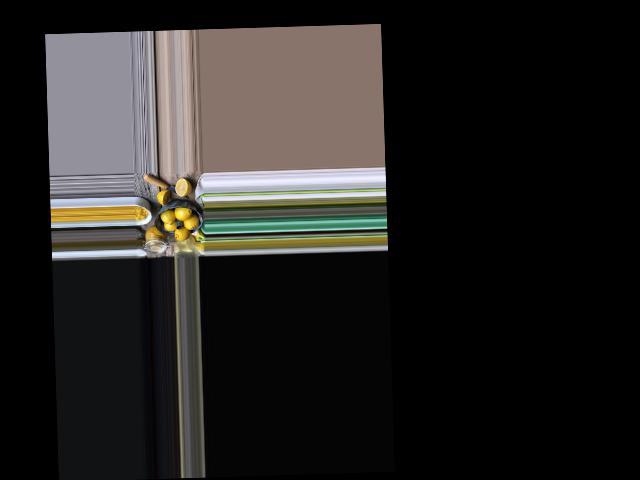lemon: (160, 208, 174, 224)
